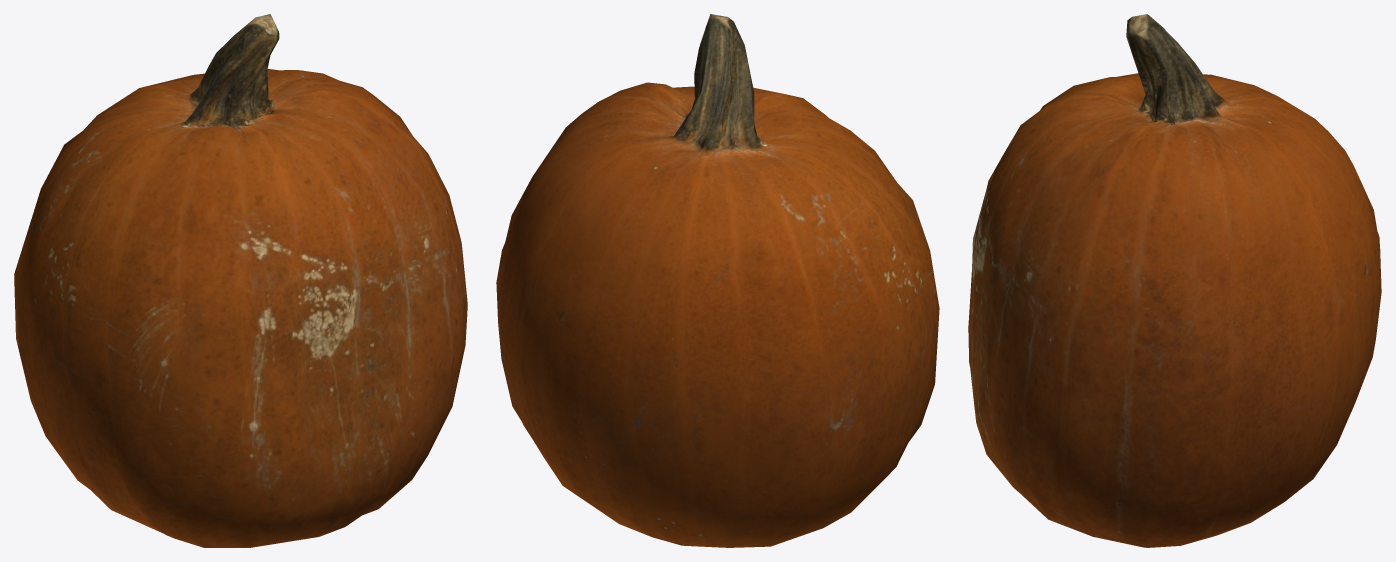
File: 66_pumpkin_round.glb
3 views of the same model, side by side, from view 1: azimuth 30°, elevation 25°; view 2: azimuth 150°, elevation 25°; view 3: azimuth 270°, elevation 25° (orthographic).
Visible parts, largest first — view 1: 66_pumpkin; view 2: 66_pumpkin; view 3: 66_pumpkin.
Part boxes in pixels (<box>): 66_pumpkin: <box>14,14,467,547</box>; 66_pumpkin: <box>496,14,939,547</box>; 66_pumpkin: <box>968,14,1381,547</box>.
Bounding box in the file's own units: 0.8357 × 0.9983 × 0.7596.
1 material, 1 textured.
